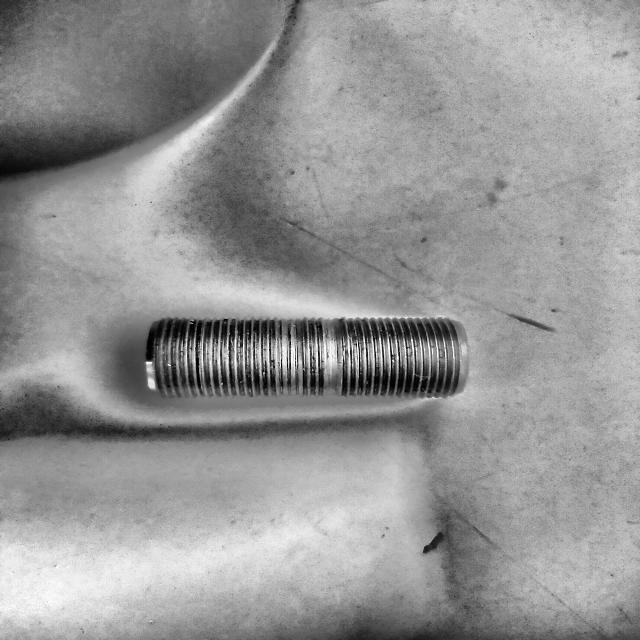Broken: (146, 316, 468, 401)
